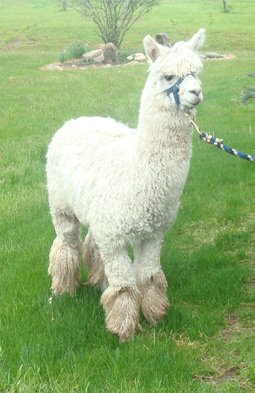alpaca: (46, 27, 206, 340)
